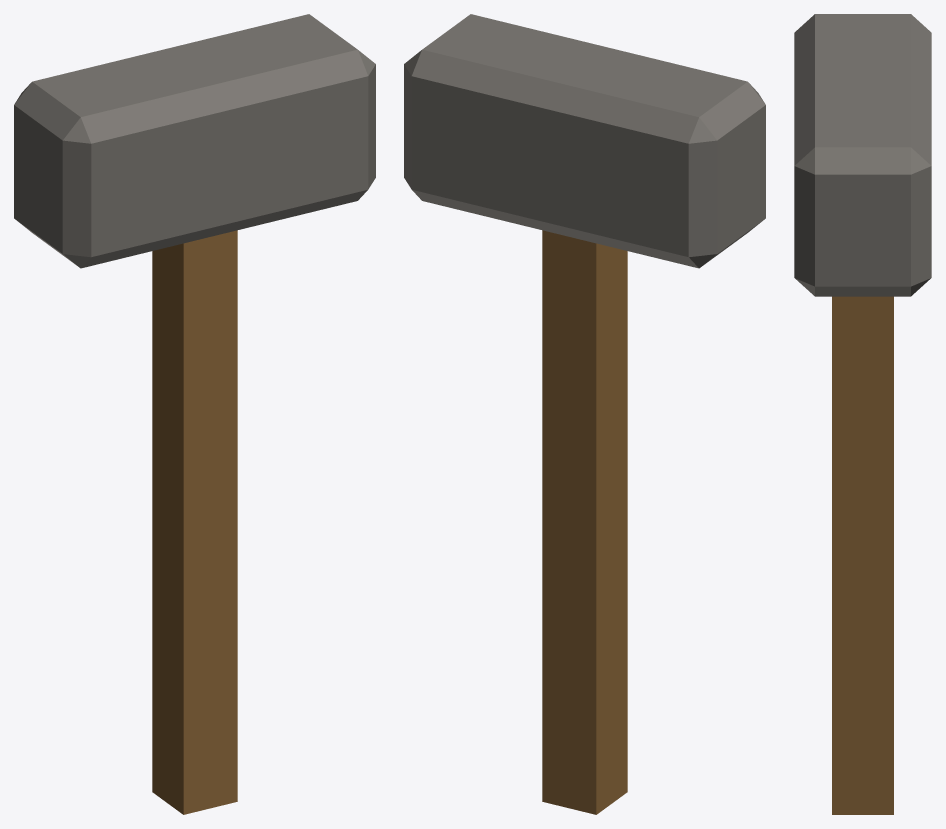
File: hammer.fbx
3 views of the same model, side by side, from view 1: azimuth 30°, elevation 25°; view 2: azimuth 150°, elevation 25°; view 3: azimuth 270°, elevation 25° (orthographic).
Parts seen in each view (by area): view 1: hammer; view 2: hammer; view 3: hammer.
Part boxes in pixels (left/top/right/bottom): hammer: left=14, top=14, right=375, bottom=814; hammer: left=404, top=14, right=765, bottom=814; hammer: left=794, top=14, right=931, bottom=814.
Size of the model in its own units: 0.78 by 1.74 by 0.3.
